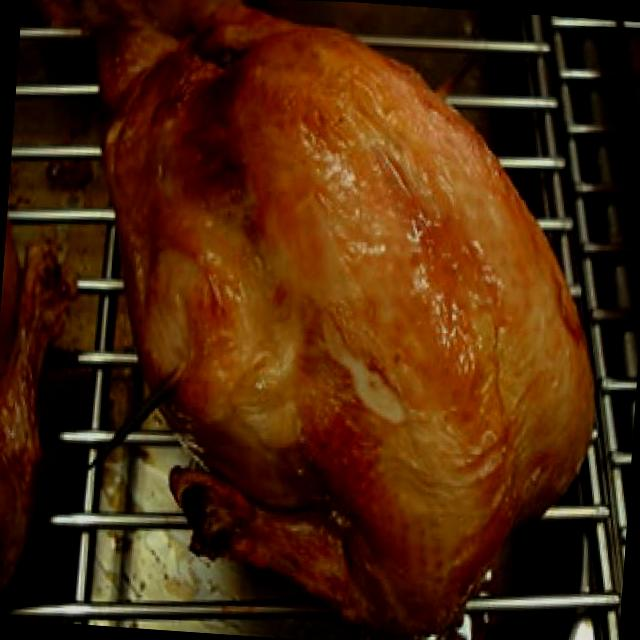Chicken: (51, 0, 637, 640)
